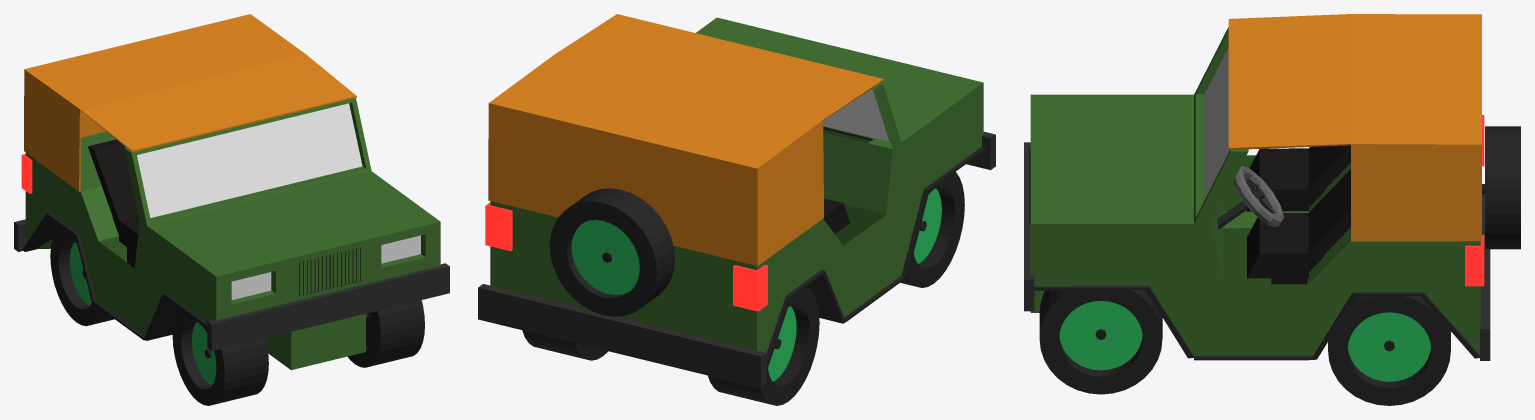
Rendered from truck.fbx.
3 views of the same model, side by side, from view 1: azimuth 30°, elevation 25°; view 2: azimuth 150°, elevation 25°; view 3: azimuth 270°, elevation 25° (orthographic). The views are drawn at different scales.
Visible parts, largest first — view 1: Chasis, Roof, windshield, Front Wheel, Front Bumper, headlights, Seat, Rear Wheel, mudguard, Grid, Rear Lights; view 2: Roof, Chasis, Extra Wheel, Rear Bumper, Rear Wheel, Front Wheel, mudguard, Rear Lights, windshield, Front Bumper, Seat; view 3: Chasis, Roof, Front Wheel, Seat, Rear Wheel, Extra Wheel, mudguard, windshield, Steeringwheel, Front Bumper, Rear Bumper, Rear Lights (+1 smaller).
Part boxes in pixels (bbox=[...]): Chasis: bbox=[25, 98, 440, 370]; Roof: bbox=[24, 14, 356, 191]; windshield: bbox=[137, 103, 362, 217]; Front Wheel: bbox=[172, 300, 424, 405]; Front Bumper: bbox=[207, 263, 449, 351]; headlights: bbox=[216, 222, 440, 320]; Seat: bbox=[88, 139, 139, 267]; Rear Wheel: bbox=[50, 226, 114, 326]; mudguard: bbox=[22, 212, 207, 340]; Grid: bbox=[297, 247, 360, 296]; Rear Lights: bbox=[21, 154, 32, 193]; Roof: bbox=[488, 14, 883, 265]; Chasis: bbox=[490, 17, 983, 352]; Extra Wheel: bbox=[549, 188, 674, 316]; Rear Bumper: bbox=[478, 284, 766, 388]; Rear Wheel: bbox=[522, 286, 819, 405]; Front Wheel: bbox=[900, 172, 964, 287]; mudguard: bbox=[766, 147, 985, 372]; Rear Lights: bbox=[485, 202, 767, 311]; windshield: bbox=[823, 89, 889, 141]; Front Bumper: bbox=[823, 126, 995, 169]; Seat: bbox=[823, 198, 849, 233]; Chasis: bbox=[1030, 27, 1480, 355]; Roof: bbox=[1228, 14, 1481, 241]; Front Wheel: bbox=[1039, 290, 1162, 394]; Seat: bbox=[1247, 145, 1350, 284]; Rear Wheel: bbox=[1328, 295, 1450, 405]; Extra Wheel: bbox=[1482, 126, 1520, 249]; mudguard: bbox=[1034, 286, 1479, 360]; windshield: bbox=[1204, 47, 1229, 199]; Steeringwheel: bbox=[1233, 165, 1284, 227]; Front Bumper: bbox=[1024, 142, 1034, 311]; Rear Bumper: bbox=[1480, 194, 1490, 360]; Rear Lights: bbox=[1465, 115, 1484, 286].
Bounding box in the file's own units: 306 × 280 × 468.
